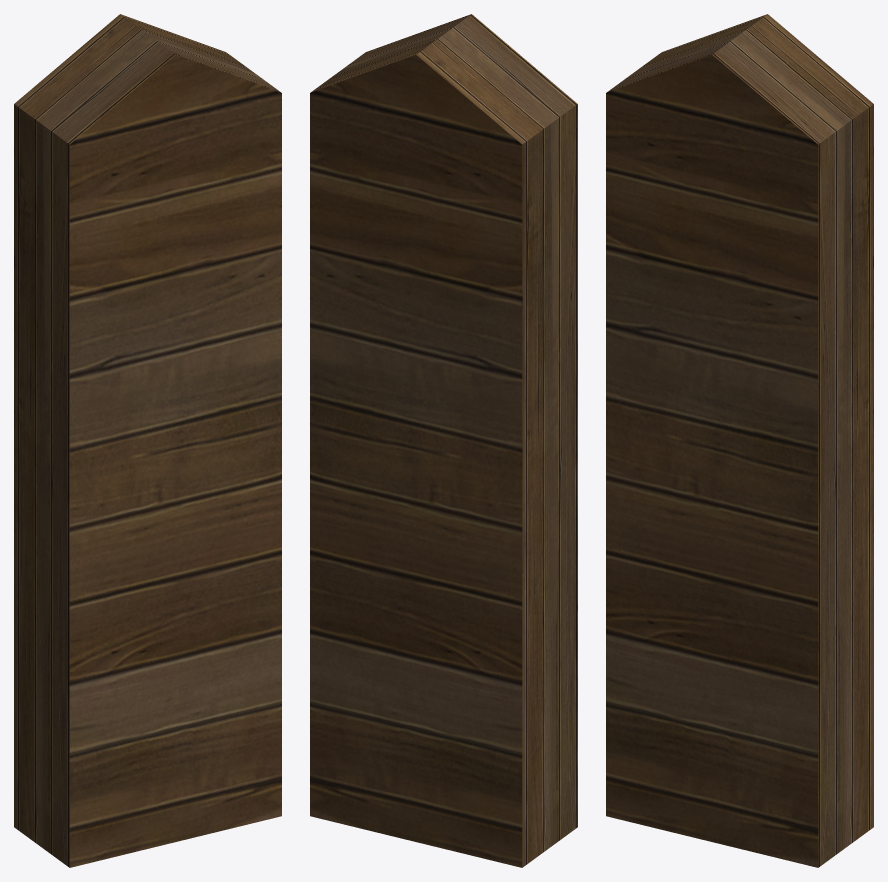
The model's file is part_pendulum.gltf.
The picture shows the model from 3 angles, left to right: view 1: azimuth 30°, elevation 25°; view 2: azimuth 150°, elevation 25°; view 3: azimuth 330°, elevation 25°; orthographic projection.
Visible parts, largest first — view 1: part_pendulum_glb; view 2: part_pendulum_glb; view 3: part_pendulum_glb.
Part boxes in pixels (x1,y1,x2,y2): part_pendulum_glb: (14,14,281,867); part_pendulum_glb: (310,14,577,867); part_pendulum_glb: (606,14,873,867).
Bounding box in the file's own units: 0.786 × 2.79 × 0.357.
Materials: 1 (1 with a texture image).
